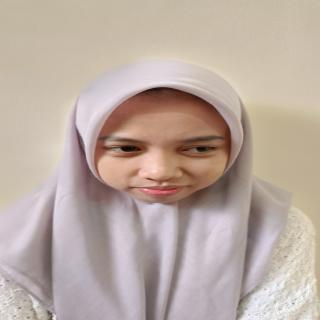Takut: (86, 84, 245, 212)
